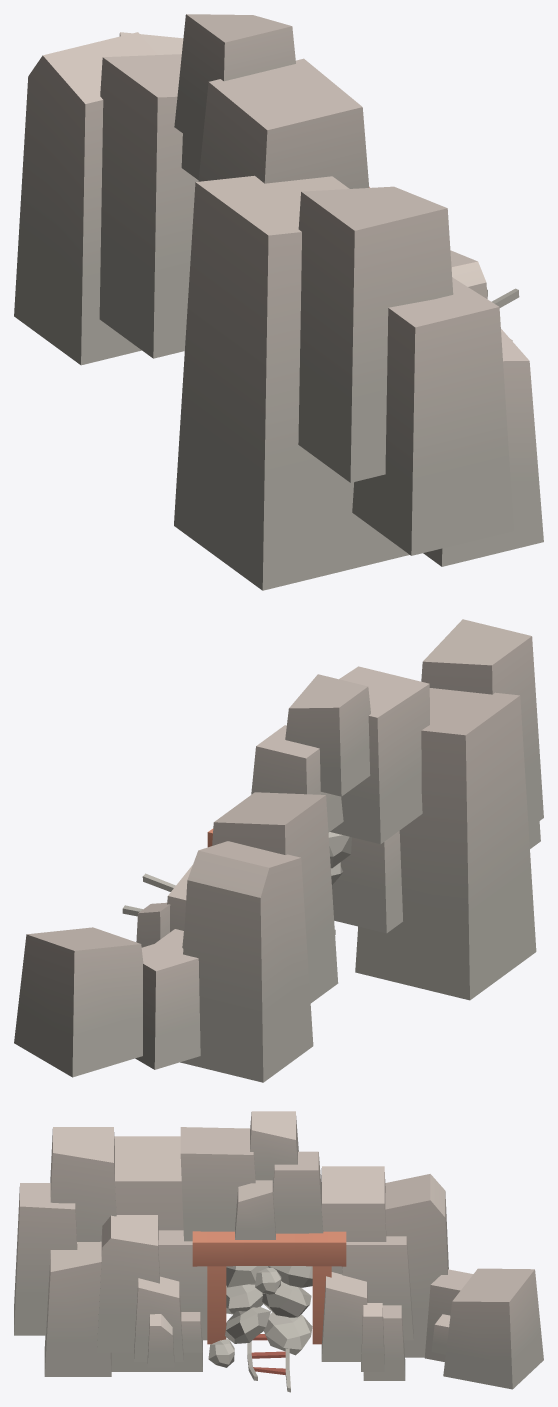
File: [OBJ]MINa.fbx
3 renders of one model, top to bottom at view 1: azimuth 30°, elevation 25°; view 2: azimuth 150°, elevation 25°; view 3: azimuth 270°, elevation 25°, orthographic. The views are drawn at different scales.
Visible parts, largest first — view 1: [OBJ]MINa; view 2: [OBJ]MINa; view 3: [OBJ]MINa.
Part boxes in pixels (bbox=[...]): [OBJ]MINa: bbox=[14, 14, 543, 590]; [OBJ]MINa: bbox=[14, 619, 543, 1082]; [OBJ]MINa: bbox=[14, 1111, 543, 1392].
Size of the model in its own units: 302 by 317 by 624.
